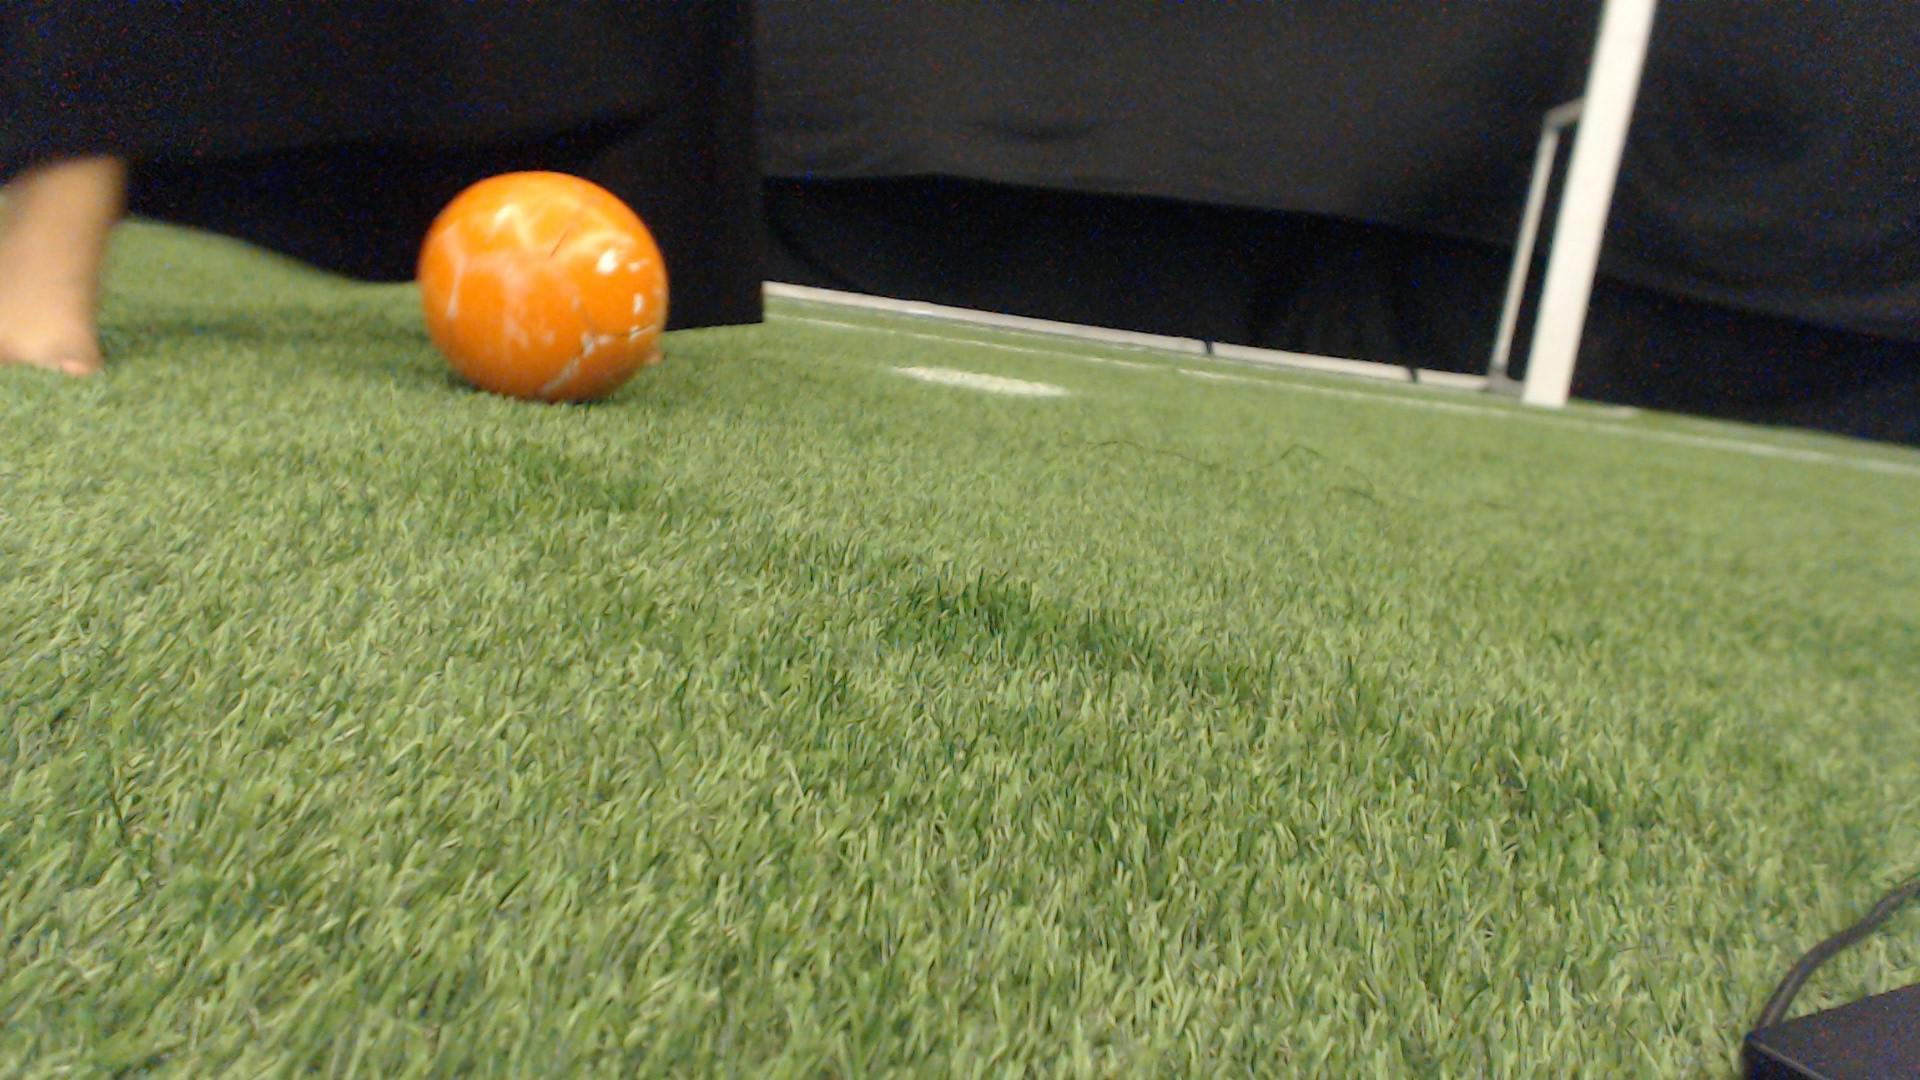bola: (415, 156, 676, 415)
